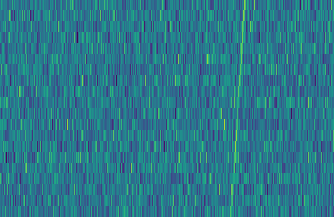signal: (227, 0, 251, 217)
